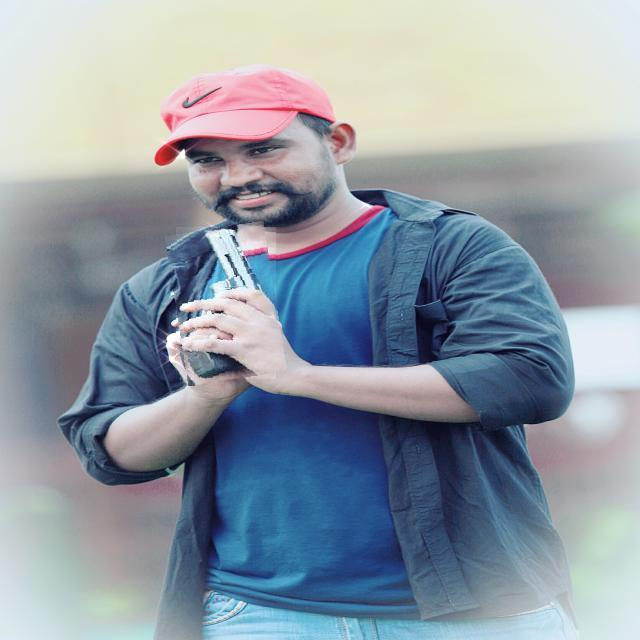handgun: (170, 224, 282, 383)
